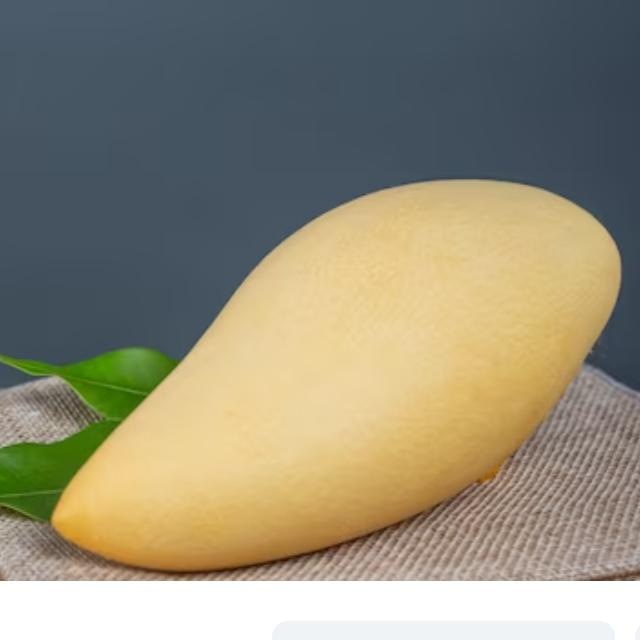mango: (44, 175, 627, 569)
